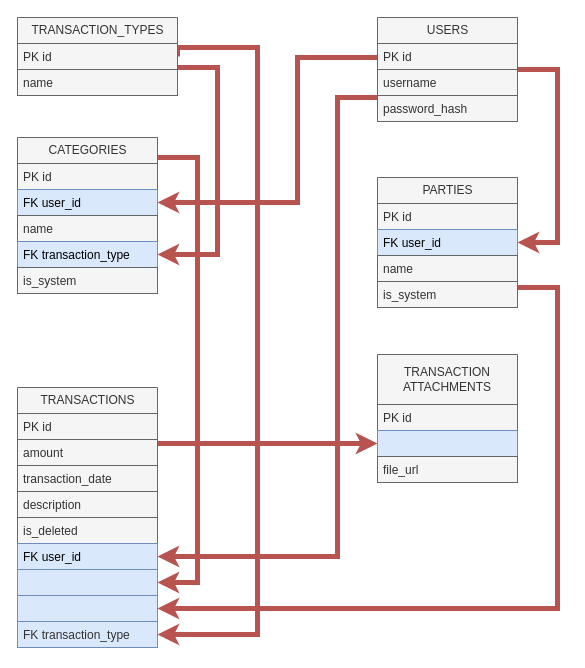
The diagram is 585 pixels wide and 668 high, and some of its shapes have lost their labels. The centre of each missing label's shape, as x and y in pixels:
"FK category_id" belongs at point 87,582.
"FK party_id" belongs at point 87,608.
"FK transaction_id" belongs at point 447,443.
